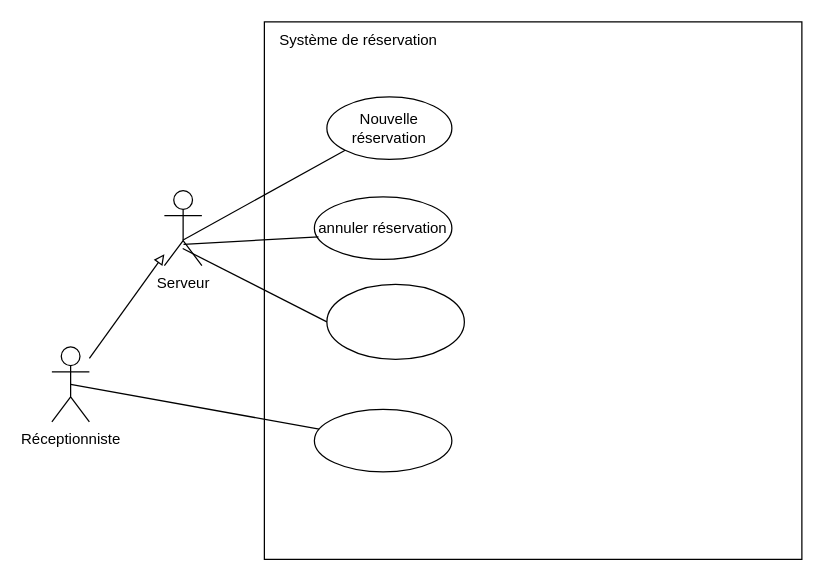
The diagram is 824 pixels wide and 581 high, and some of its shapes have lost their labels. Here are the shapes that lost their labels. From the top down, the box of each, then its label:
(326, 283, 464, 359): consulter les réservation
(313, 408, 452, 472): Visualiser disponibiliter tables
